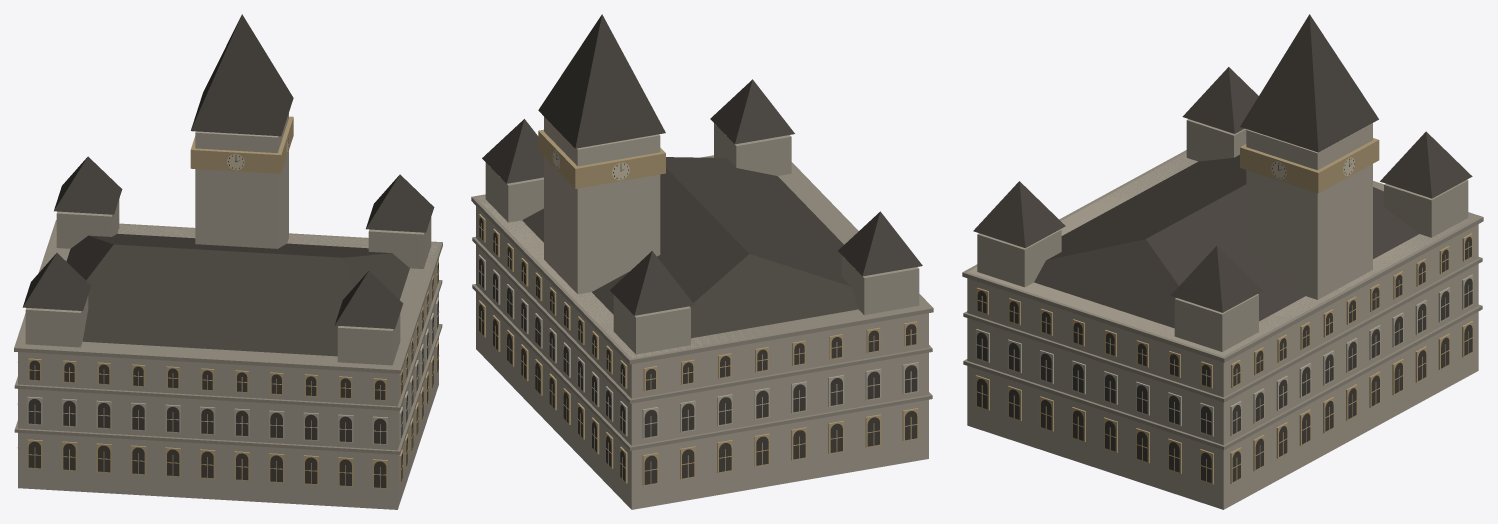
File: old-city-hall.glb
3 views of the same model, side by side, from view 1: azimuth 30°, elevation 25°; view 2: azimuth 150°, elevation 25°; view 3: azimuth 270°, elevation 25° (orthographic). The views are drawn at different scales.
Parts seen in each view (by area): view 1: body; view 2: body; view 3: body.
Boxes of the visible parts, left/top/right/bottom form: body: left=14, top=14, right=442, bottom=509; body: left=471, top=14, right=933, bottom=509; body: left=962, top=14, right=1483, bottom=509.
Bounding box in the file's own units: 71.66 × 60.5 × 69.31.
